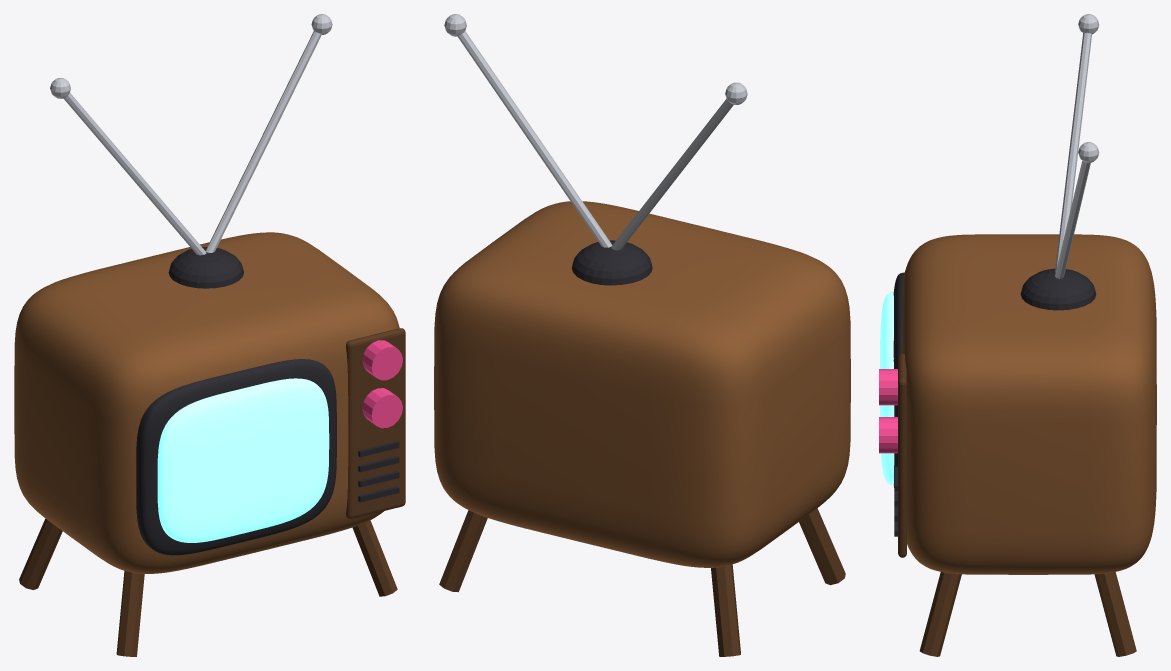
Rendered from tele.glb.
3 views of the same model, side by side, from view 1: azimuth 30°, elevation 25°; view 2: azimuth 150°, elevation 25°; view 3: azimuth 270°, elevation 25° (orthographic). The views are drawn at different scales.
Parts seen in each view (by area): view 1: mueble, pantalla, bisel, panel, base_antena, antena1, antena-1, pata-1-1, pata1-1, pata-11, mando0, mando1; view 2: mueble, base_antena, antena1, pata-11, antena-1, pata11, pata-1-1; view 3: mueble, base_antena, antena-1, pata1-1, pata11, panel, pantalla, antena1, bisel, mando0, mando1.
Part boxes in pixels (x1,y1,x2,y2): mueble: [14, 232, 399, 573]; pantalla: [157, 378, 329, 542]; bisel: [136, 359, 336, 555]; panel: [346, 328, 405, 518]; base_antena: [168, 247, 243, 288]; antena1: [205, 31, 321, 252]; antena-1: [63, 93, 206, 255]; pata-1-1: [116, 571, 144, 656]; pata1-1: [352, 520, 397, 596]; pata-11: [19, 518, 62, 589]; mando0: [362, 340, 402, 380]; mando1: [362, 388, 402, 428]; mueble: [434, 201, 850, 567]; base_antena: [572, 240, 652, 285]; antena1: [457, 31, 612, 247]; pata-11: [711, 564, 740, 656]; antena-1: [611, 99, 733, 250]; pata11: [439, 510, 487, 592]; pata-1-1: [799, 508, 845, 585]; mueble: [901, 234, 1156, 574]; base_antena: [1020, 268, 1096, 310]; antena-1: [1055, 32, 1092, 272]; pata1-1: [919, 572, 961, 656]; pata11: [1094, 572, 1136, 656]; panel: [898, 353, 906, 557]; pantalla: [880, 292, 894, 485]; antena1: [1055, 161, 1090, 278]; bisel: [893, 272, 904, 487]; mando0: [879, 369, 897, 405]; mando1: [879, 417, 897, 453].
Size of the model in its own units: 0.464 by 0.759 by 0.367.
